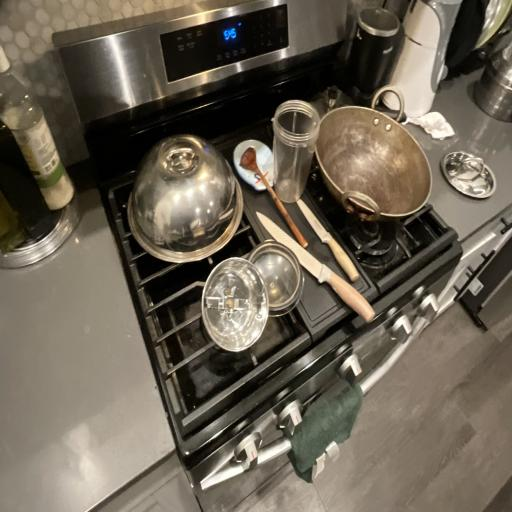Pan: (304, 76, 448, 244)
Stove: (77, 38, 477, 427)
knife: (251, 202, 386, 332), (282, 188, 377, 296)
